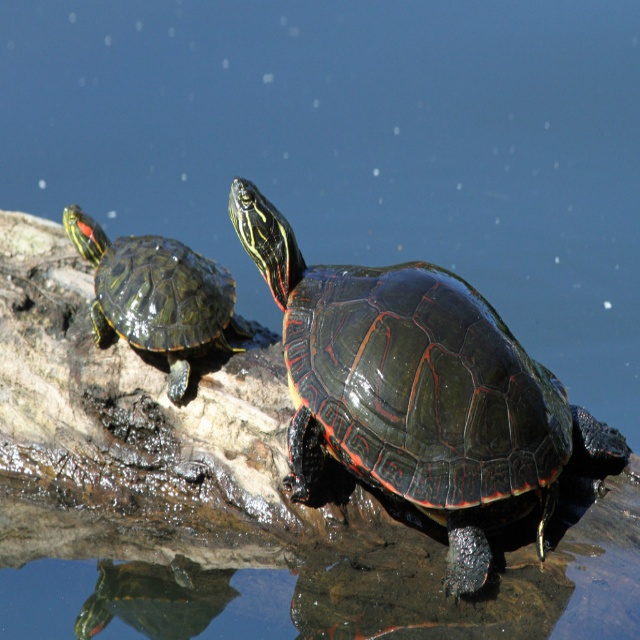Sea turtle: (228, 176, 633, 603), (62, 200, 245, 407)
